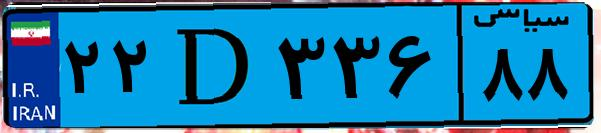2: (57, 26, 110, 100), (110, 28, 158, 98)
3: (270, 28, 330, 110), (330, 28, 385, 110)
6: (385, 28, 445, 110)
8: (475, 38, 525, 113), (525, 38, 570, 115)
D: (158, 12, 270, 120)
